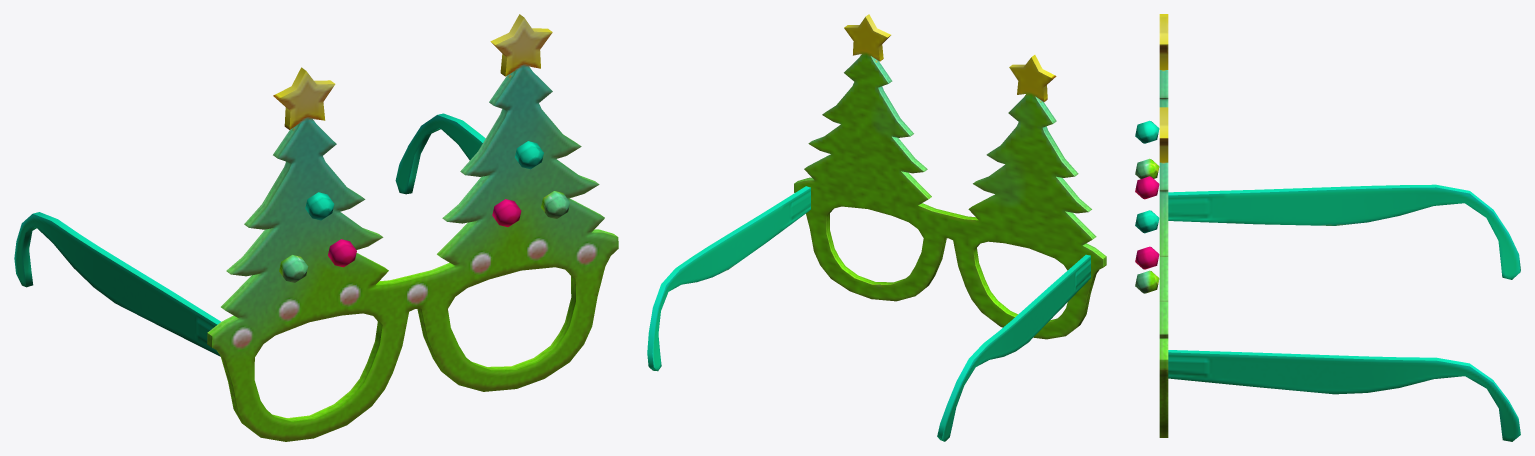
The model's file is glasses.glb.
The picture shows the model from 3 angles, left to right: view 1: azimuth 30°, elevation 25°; view 2: azimuth 150°, elevation 25°; view 3: azimuth 270°, elevation 25°; orthographic projection. The views are drawn at different scales.
Visible parts, largest first — view 1: Wolf3D_Glasses; view 2: Wolf3D_Glasses; view 3: Wolf3D_Glasses.
Part boxes in pixels (left/top/right/bottom): Wolf3D_Glasses: left=14, top=14, right=618, bottom=441; Wolf3D_Glasses: left=647, top=14, right=1106, bottom=441; Wolf3D_Glasses: left=1135, top=14, right=1520, bottom=441.
Size of the model in its own units: 0.1625 by 0.1394 by 0.1507.
1 material, 1 textured.
